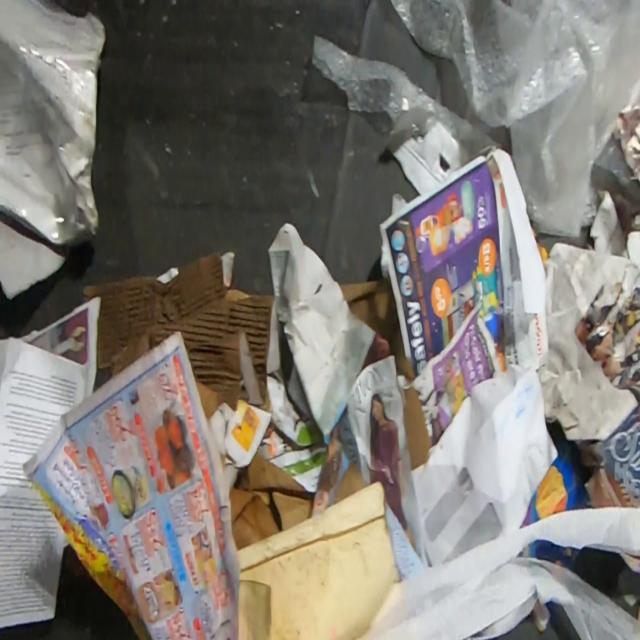cardboard: (80, 249, 276, 420), (572, 369, 640, 508), (228, 453, 316, 550), (338, 276, 416, 383), (386, 121, 460, 195), (402, 385, 433, 470), (331, 458, 372, 503)
soft_plastic: (308, 0, 640, 237)
